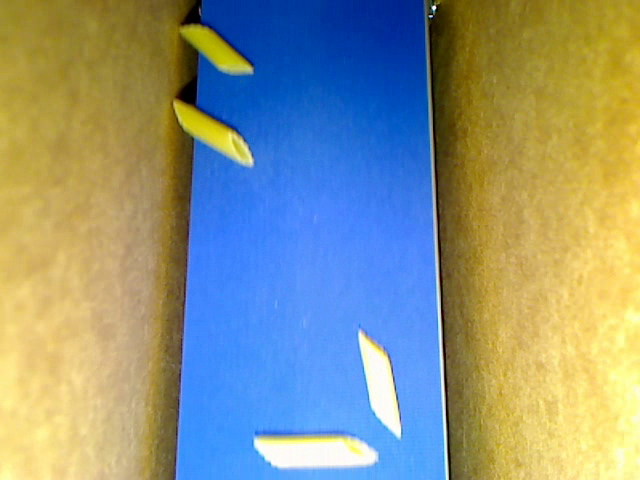penne: (171, 98, 253, 166), (357, 328, 401, 438), (253, 435, 378, 467), (177, 26, 253, 75)
